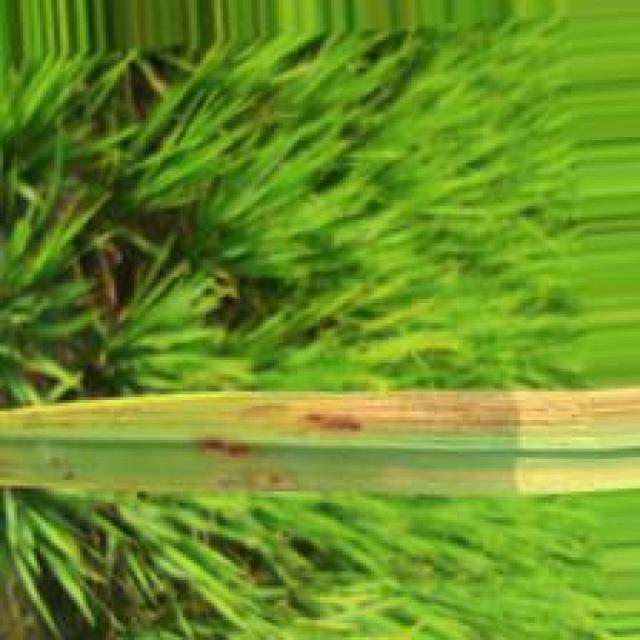Narrow_Brown_Leaf_Spot: (0, 380, 640, 497)
